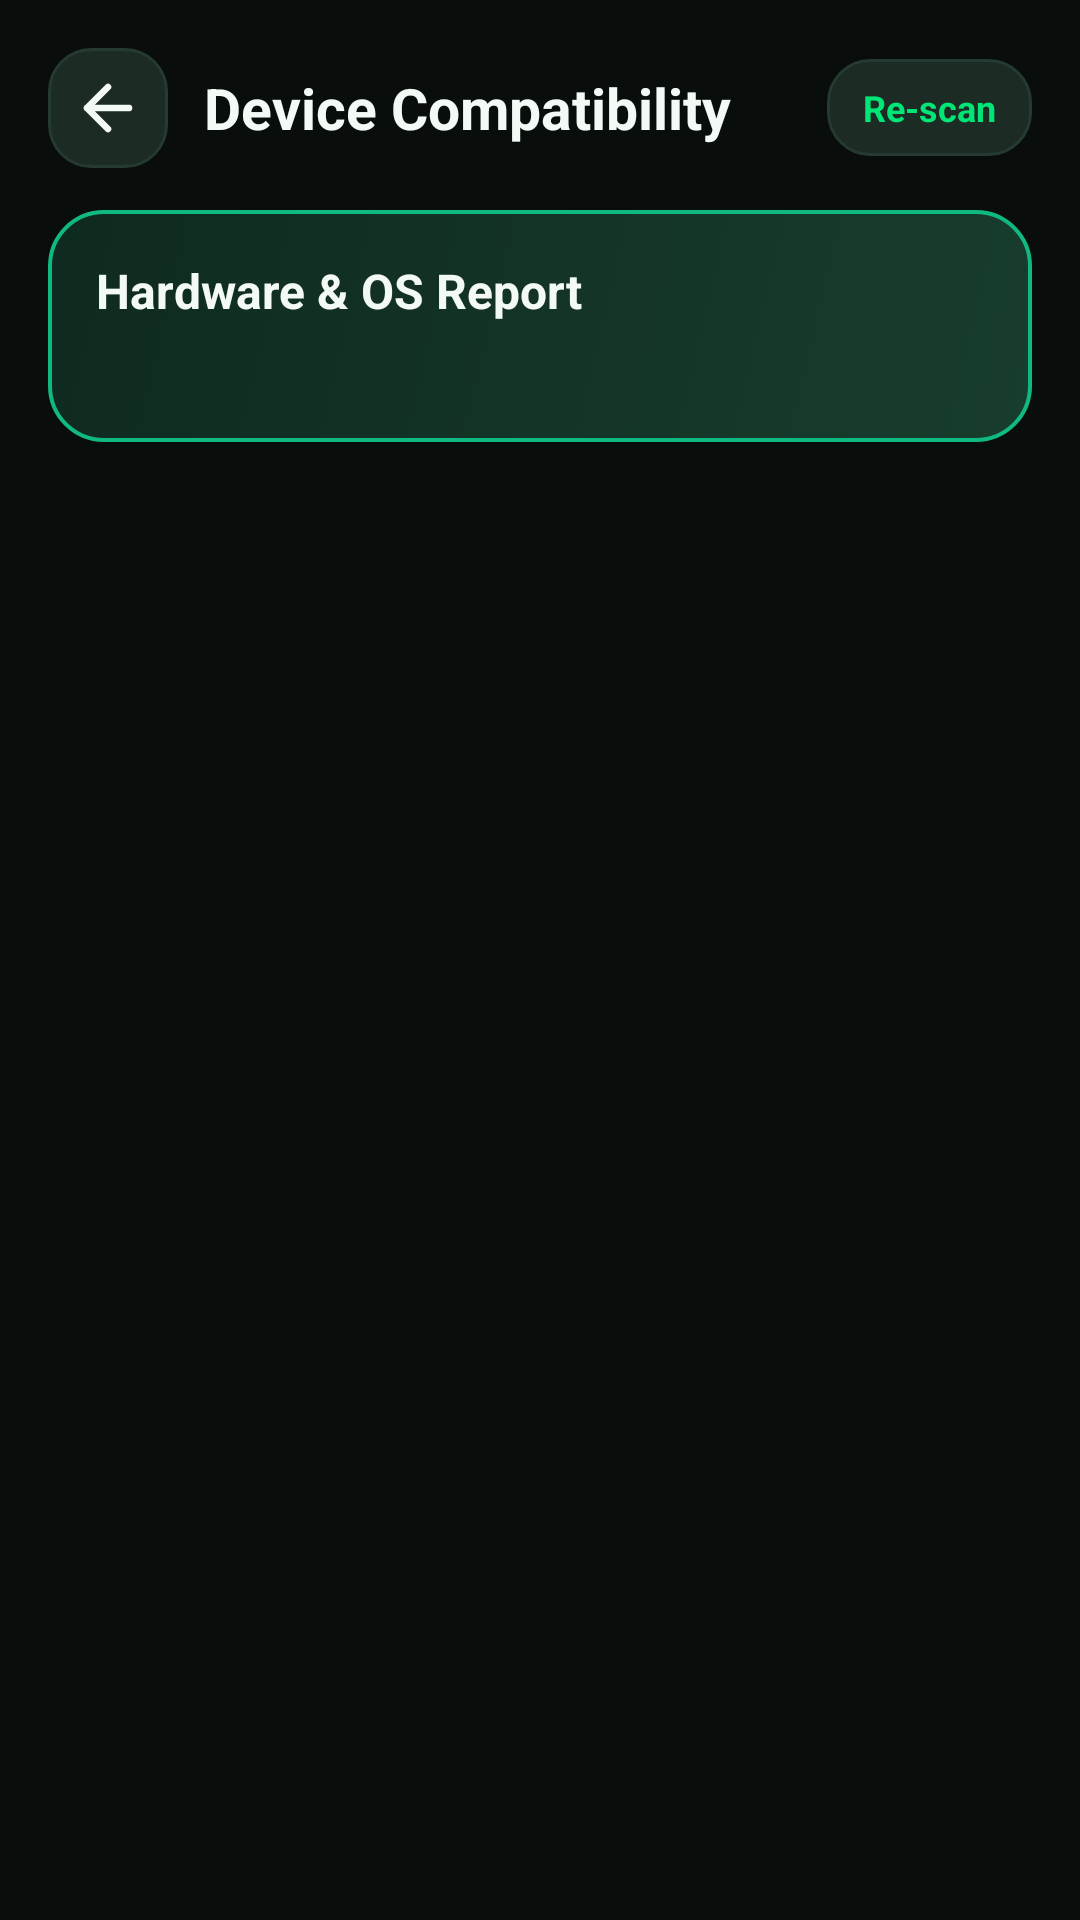

Screen size 1080px x 1920px. Icon name, then its center in pixels as [x,y]:
Back: [108,108]
